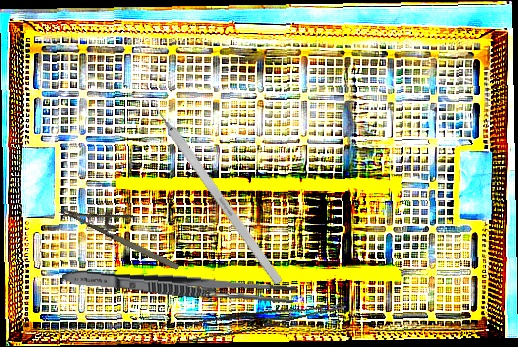Dressing Forceps: (61, 265, 298, 306)
Hook Surgical: (141, 89, 284, 287)
Needle Holder: (58, 183, 190, 275)
Tissue Forceps: (183, 285, 346, 347)
